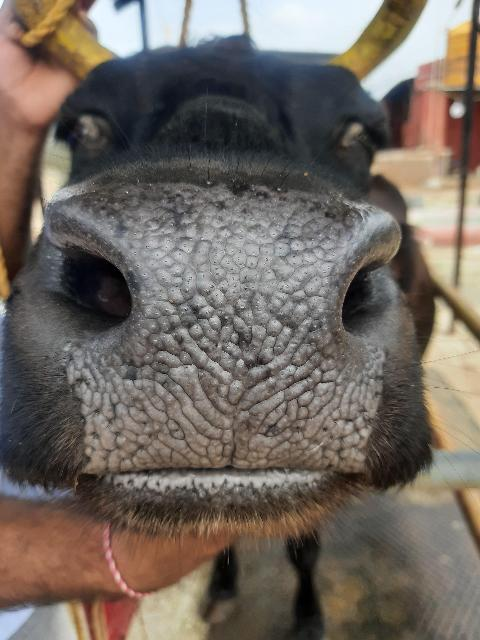Muzzle: (134, 200, 336, 472)
